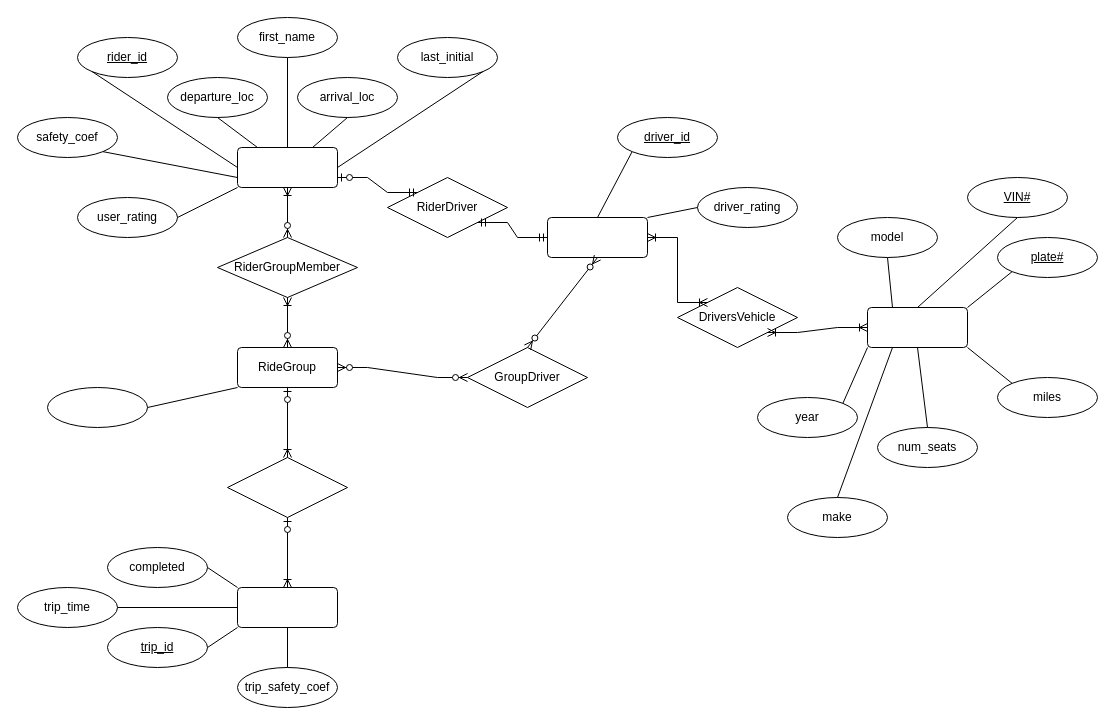
Some shapes in this 1115 by 725 pixel diagram are drawn without their labels. Here are the shapes that lost their labels. From the top down, the box of each, then its label:
(236, 146, 338, 188): Rider
(546, 216, 648, 258): Driver
(866, 306, 968, 348): Vehicle
(46, 386, 148, 428): group_id
(226, 456, 348, 518): GroupTrip
(236, 586, 338, 628): Trip
